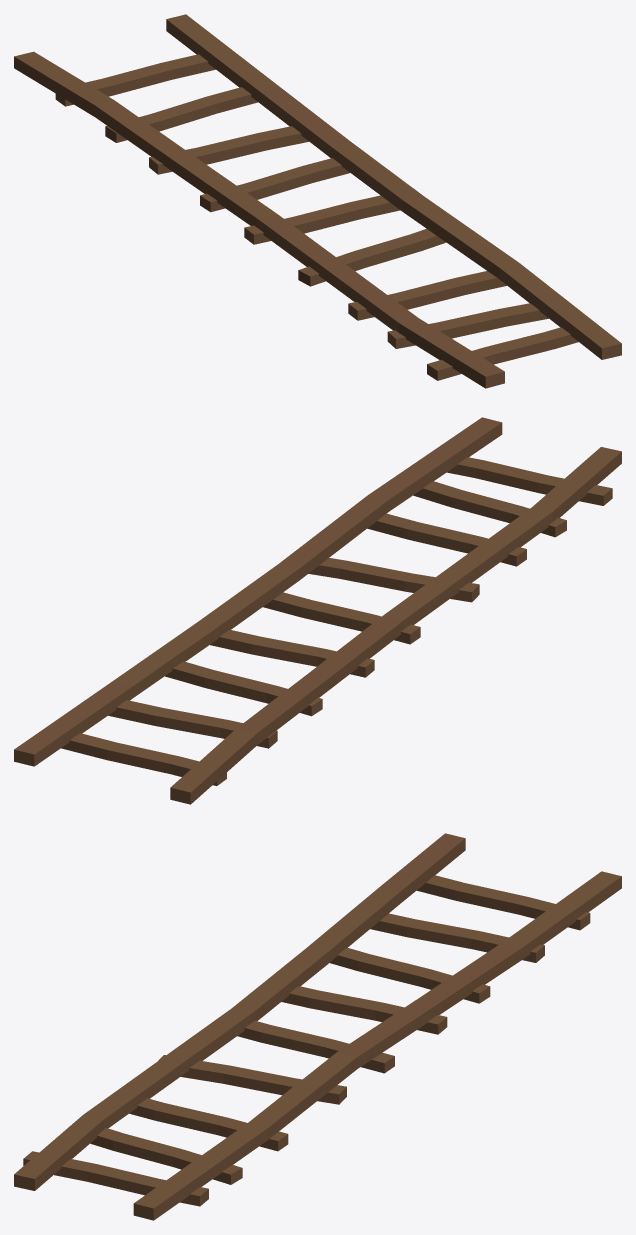
Rendered from Ladder_01_Bridge.fbx.
3 views of the same model, one above another, from view 1: azimuth 30°, elevation 25°; view 2: azimuth 150°, elevation 25°; view 3: azimuth 330°, elevation 25° (orthographic). The views are drawn at different scales.
Parts seen in each view (by area): view 1: Ladder 1 bridge; view 2: Ladder 1 bridge; view 3: Ladder 1 bridge.
Part boxes in pixels (x1,y1,x2,y2): Ladder 1 bridge: (14, 14, 621, 388); Ladder 1 bridge: (14, 417, 621, 804); Ladder 1 bridge: (14, 833, 621, 1220).
Size of the model in its own units: 63.2 by 7.83 by 278.
